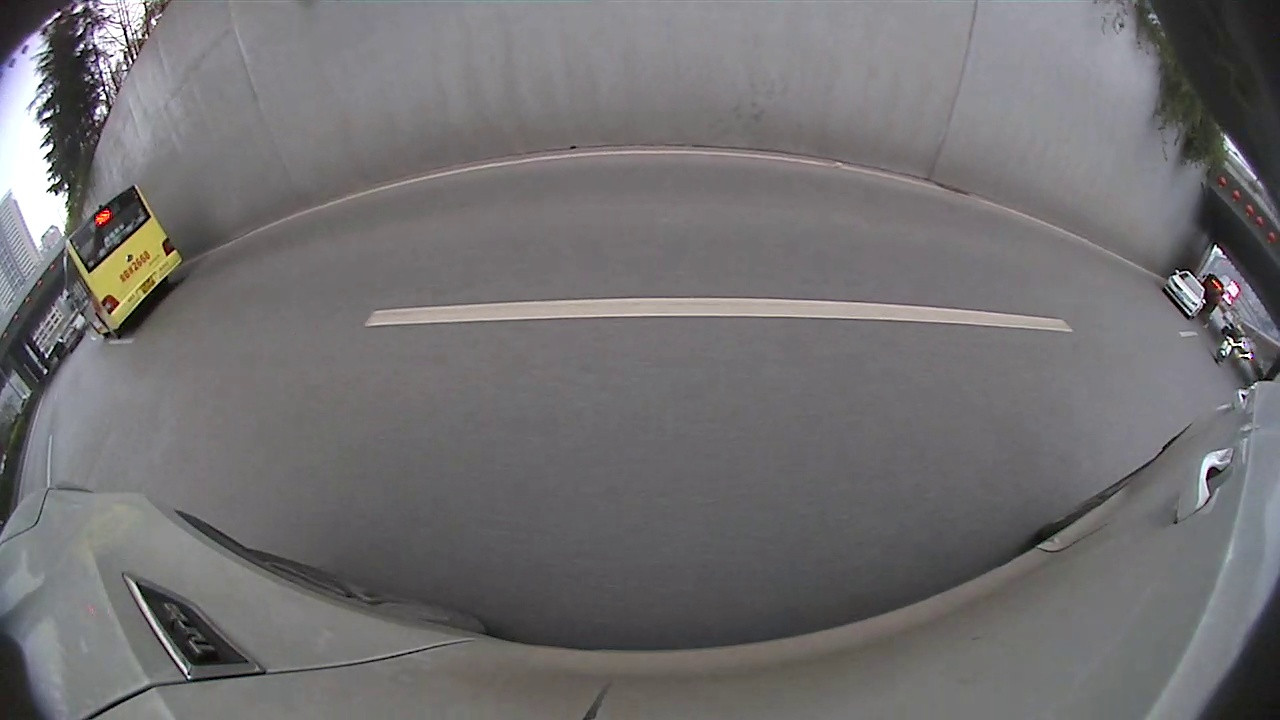bus: (63, 184, 186, 342)
car: (1162, 268, 1205, 319)
rear: (95, 312, 124, 347)
rider: (1210, 325, 1247, 363)
